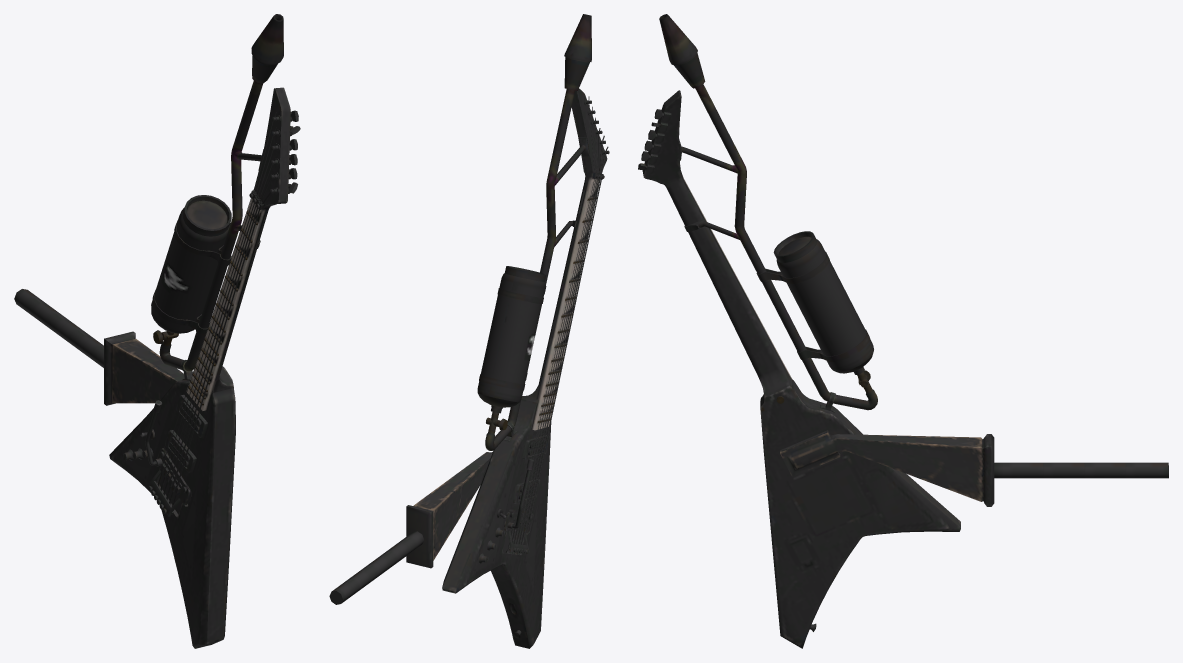
The model's file is Guitar.fbx.
The picture shows the model from 3 angles, left to right: view 1: azimuth 30°, elevation 25°; view 2: azimuth 150°, elevation 25°; view 3: azimuth 270°, elevation 25°; orthographic projection. The views are drawn at different scales.
Parts seen in each view (by area): view 1: set_0_group_0; view 2: set_0_group_0; view 3: set_0_group_0.
Boxes of the visible parts, x1,y1,x2,y2 form: set_0_group_0: [14, 14, 300, 648]; set_0_group_0: [329, 14, 609, 648]; set_0_group_0: [638, 14, 1168, 648].
Bounding box in the file's own units: 13.54 × 141 × 107.
1 material, 1 textured.
